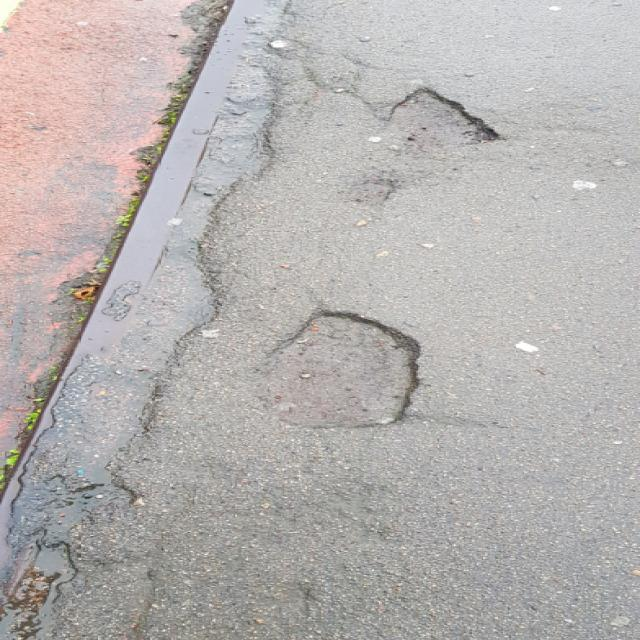Pothole: (307, 204, 432, 390), (83, 127, 153, 263)
